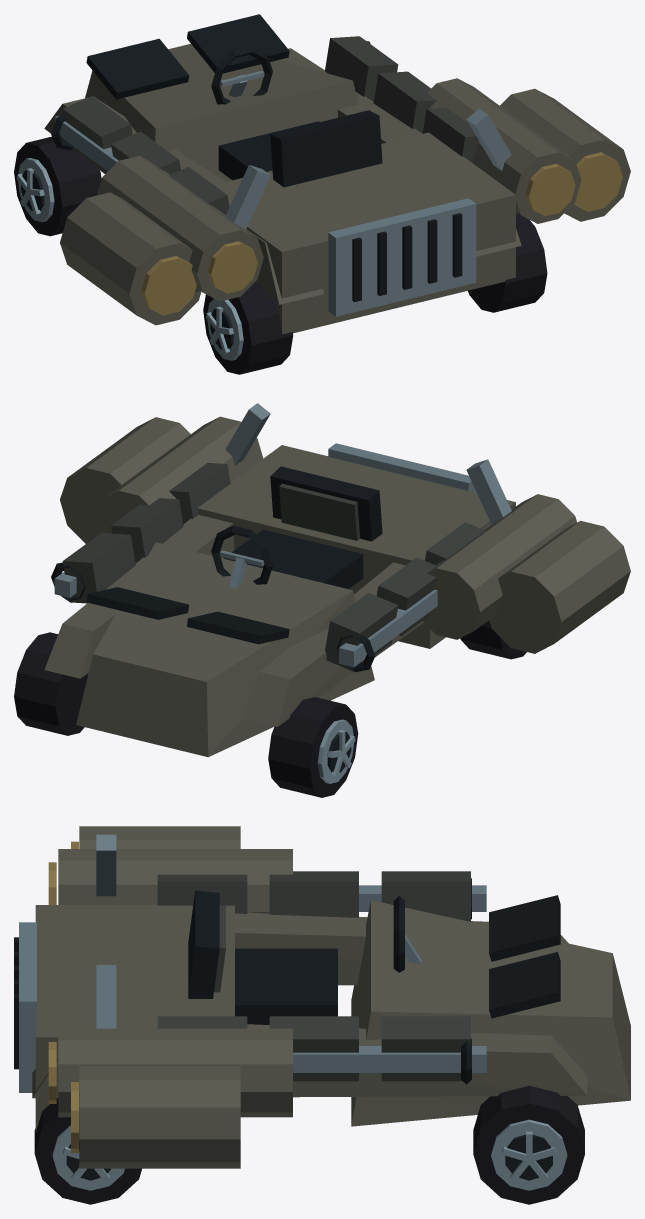
The model's file is kart.glb.
3 renders of one model, top to bottom at view 1: azimuth 30°, elevation 25°; view 2: azimuth 150°, elevation 25°; view 3: azimuth 270°, elevation 25°, orthographic. The views are drawn at different scales.
Parts seen in each view (by area): view 1: identity-dropship-dropship-armored-cargo-fuselage, identity-dropship-motif-engine-pods, identity-dropship-motif-armor, identity-dropship-driver-cockpit, wheel-front-left, wheel-rear-left, identity-dropship-motif-pipes, wheel-rear-right; view 2: identity-dropship-dropship-armored-cargo-fuselage, identity-dropship-motif-engine-pods, identity-dropship-motif-armor, identity-dropship-driver-cockpit, wheel-front-left, identity-dropship-motif-pipes, wheel-front-right, wheel-rear-left; view 3: identity-dropship-dropship-armored-cargo-fuselage, identity-dropship-motif-engine-pods, identity-dropship-motif-armor, identity-dropship-driver-cockpit, wheel-front-right, identity-dropship-motif-pipes, wheel-rear-right.
Part boxes in pixels (x1,y1,x2,y2): identity-dropship-dropship-armored-cargo-fuselage: [44, 14, 630, 334]; identity-dropship-motif-engine-pods: [97, 78, 581, 301]; identity-dropship-motif-armor: [63, 36, 479, 214]; identity-dropship-driver-cockpit: [211, 46, 382, 187]; wheel-front-left: [14, 136, 101, 236]; wheel-rear-left: [203, 280, 293, 374]; identity-dropship-motif-pipes: [51, 41, 511, 229]; wheel-rear-right: [468, 213, 547, 312]; identity-dropship-dropship-armored-cargo-fuselage: [44, 417, 630, 757]; identity-dropship-motif-engine-pods: [95, 416, 576, 639]; identity-dropship-motif-armor: [62, 463, 484, 671]; identity-dropship-driver-cockpit: [211, 466, 382, 588]; wheel-front-left: [268, 697, 358, 797]; identity-dropship-motif-pipes: [51, 403, 511, 672]; wheel-front-right: [14, 632, 88, 735]; wheel-rear-left: [460, 620, 526, 659]; identity-dropship-dropship-armored-cargo-fuselage: [14, 826, 630, 1168]; identity-dropship-motif-engine-pods: [48, 849, 292, 1117]; identity-dropship-motif-armor: [157, 871, 470, 1081]; identity-dropship-driver-cockpit: [188, 890, 421, 1024]; wheel-front-right: [473, 1085, 584, 1204]; identity-dropship-motif-pipes: [96, 834, 486, 1084]; wheel-rear-right: [34, 1098, 141, 1204].
Bounding box in the file's own units: 3 × 1.09 × 2.76.
